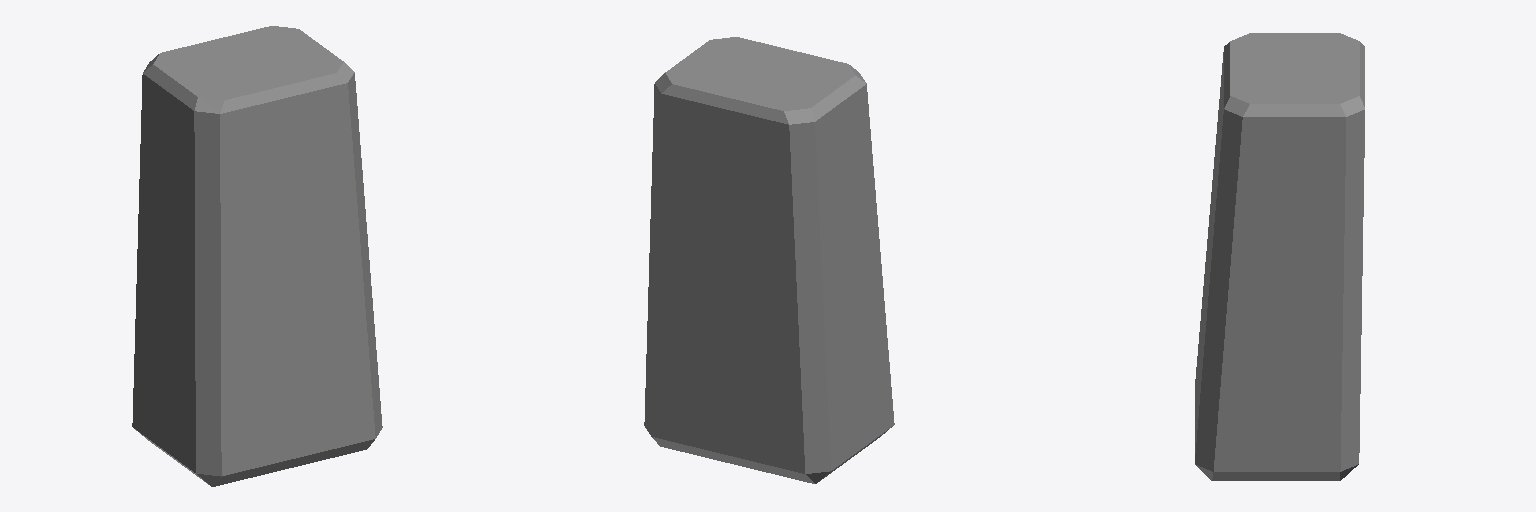
The model's file is speaker_Final.obj.
3 renders of one model, left to right at view 1: azimuth 30°, elevation 25°; view 2: azimuth 150°, elevation 25°; view 3: azimuth 270°, elevation 25°, orthographic.
Parts seen in each view (by area): view 1: g Group2_Group2, g Group15881_Group15881, g Group15882_Group15882; view 2: g Group2_Group2, g Group15881_Group15881, g Group15882_Group15882; view 3: g Group2_Group2, g Group15881_Group15881, g Group15882_Group15882.
Part boxes in pixels (bbox=[...]): g Group2_Group2: bbox=[132, 26, 375, 475]; g Group15881_Group15881: bbox=[135, 26, 382, 486]; g Group15882_Group15882: bbox=[143, 54, 354, 113]; g Group2_Group2: bbox=[651, 37, 894, 473]; g Group15881_Group15881: bbox=[644, 37, 891, 483]; g Group15882_Group15882: bbox=[655, 65, 866, 124]; g Group2_Group2: bbox=[1195, 33, 1359, 471]; g Group15881_Group15881: bbox=[1195, 33, 1364, 480]; g Group15882_Group15882: bbox=[1224, 42, 1364, 116].
Size of the model in its own units: 1.17 by 2.24 by 0.9256.